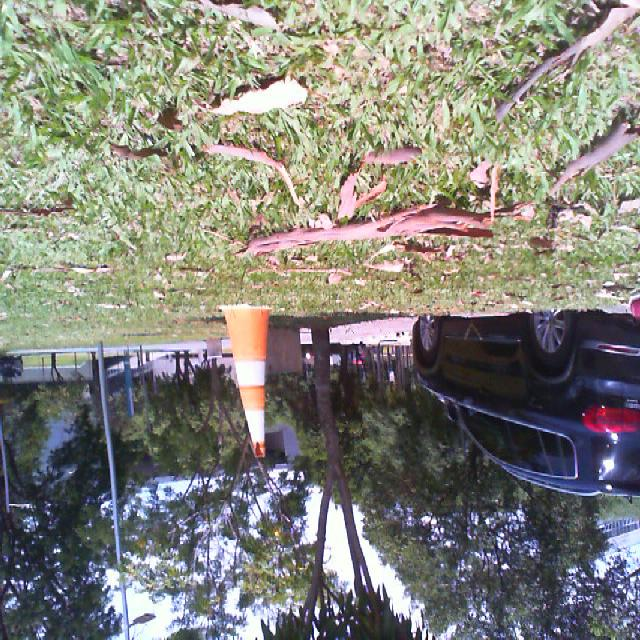cone: (214, 304, 276, 459)
